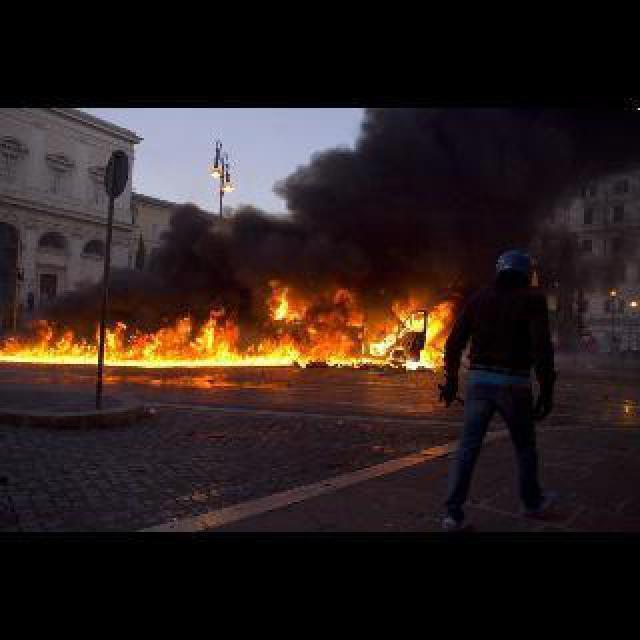Fire: (2, 268, 468, 364)
Smoke: (44, 108, 510, 316)
